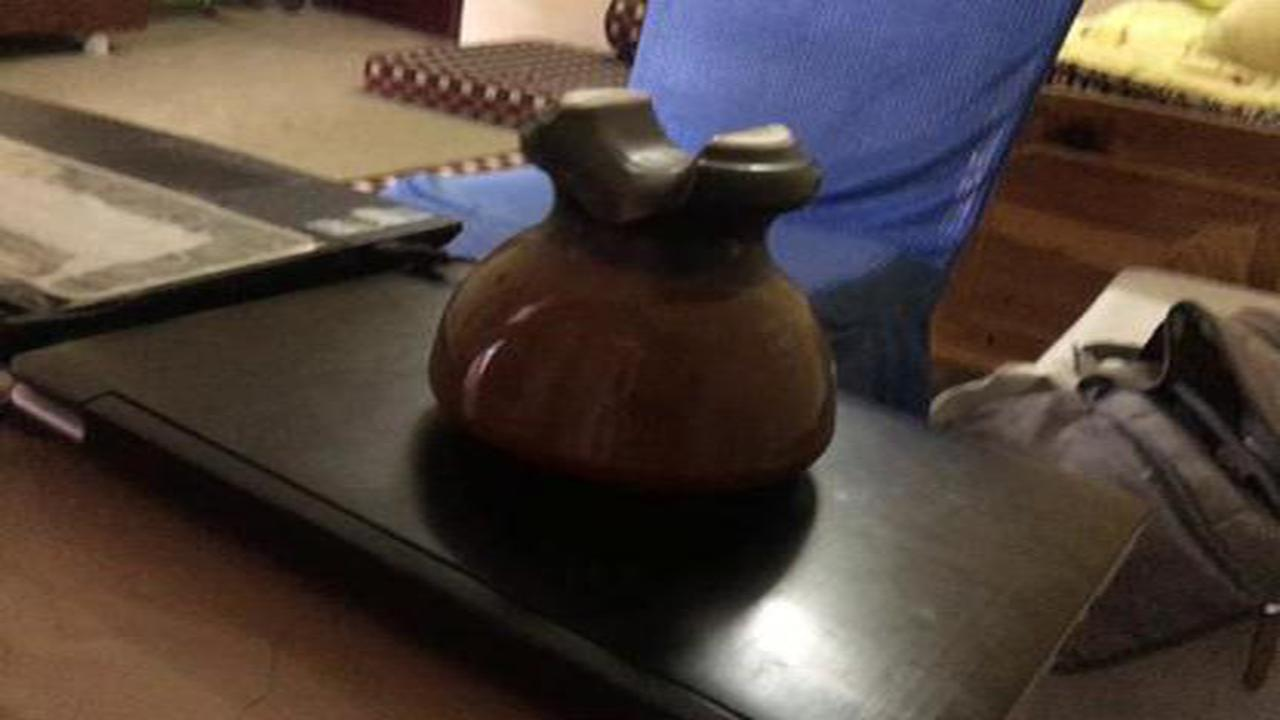insulator_pin: (415, 71, 859, 527)
